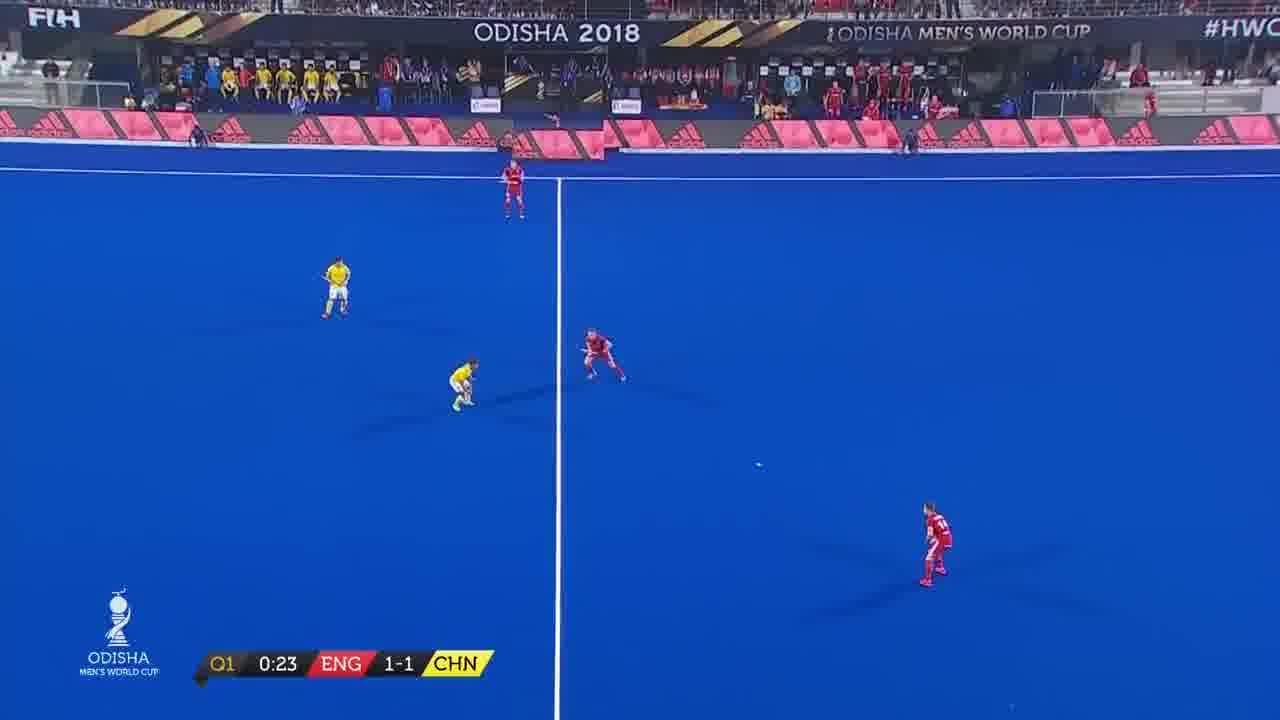ball: (740, 452, 772, 477)
